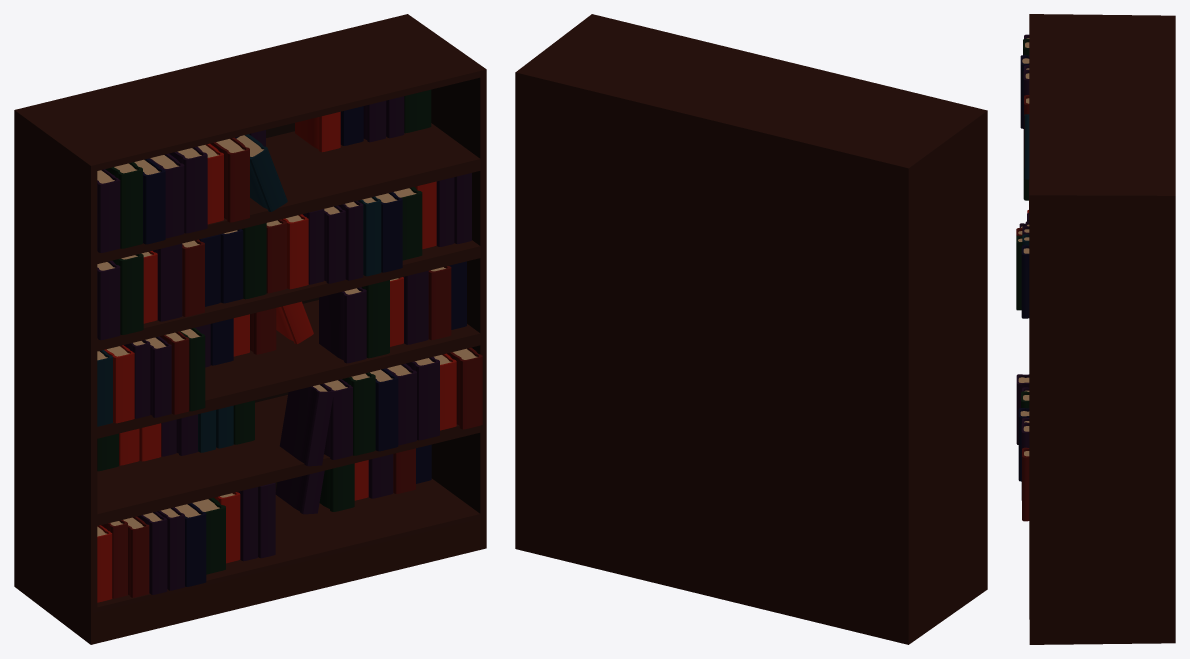
File: bookshelf.fbx
The picture shows the model from 3 angles, left to right: view 1: azimuth 30°, elevation 25°; view 2: azimuth 150°, elevation 25°; view 3: azimuth 270°, elevation 25°; orthographic projection. The views are drawn at different scales.
Visible parts, largest first — view 1: bookshelf, book075, book033, book007, book072, book005, book002, book008, book012, book071, book068, book010 (+66 smaller); view 2: bookshelf; view 3: bookshelf, book023, book072, book044, book075, book008, book069, book003, book071.
Boxes of the visible parts, <box> form: bookshelf: <box>14,14,486,644</box>; book075: <box>279,383,333,466</box>; book033: <box>319,287,366,363</box>; book007: <box>210,137,249,222</box>; book072: <box>447,347,482,429</box>; book005: <box>169,146,207,233</box>; book002: <box>105,162,142,248</box>; book008: <box>236,134,287,211</box>; book012: <box>153,243,182,321</box>; book071: <box>406,357,439,440</box>; book068: <box>342,372,375,455</box>; book010: <box>112,253,143,334</box>; bookshelf: <box>515,14,987,644</box>; bookshelf: <box>1029,14,1175,644</box>; book023: <box>1021,245,1029,318</box>; book072: <box>1022,447,1029,521</box>; book044: <box>1016,235,1022,310</box>; book075: <box>1016,374,1029,444</box>; book008: <box>1024,114,1029,179</box>; book069: <box>1018,408,1029,481</box>; book003: <box>1020,55,1029,128</box>; book071: <box>1021,422,1029,500</box>.
Bounding box in the file's own units: 70.23 × 81.23 × 26.13.
